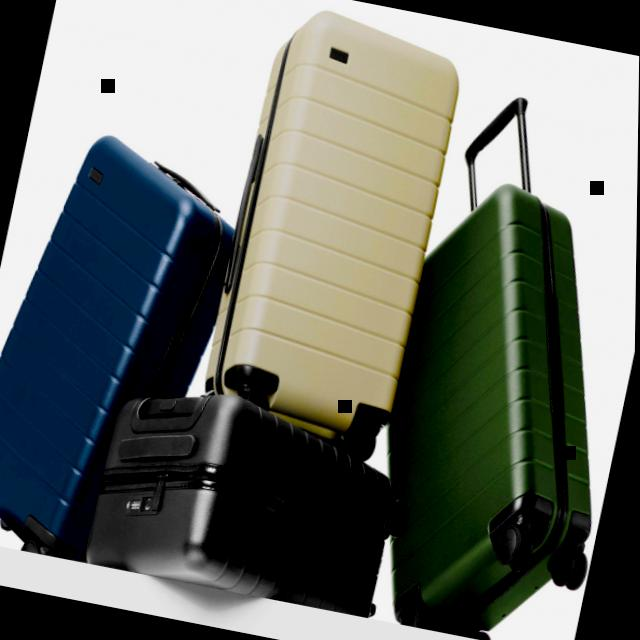luggage: (352, 161, 638, 640), (192, 0, 479, 457), (0, 116, 252, 576), (80, 364, 416, 620)
